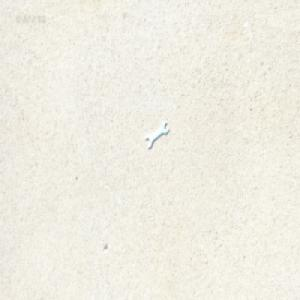Wrench: (144, 118, 166, 146)
